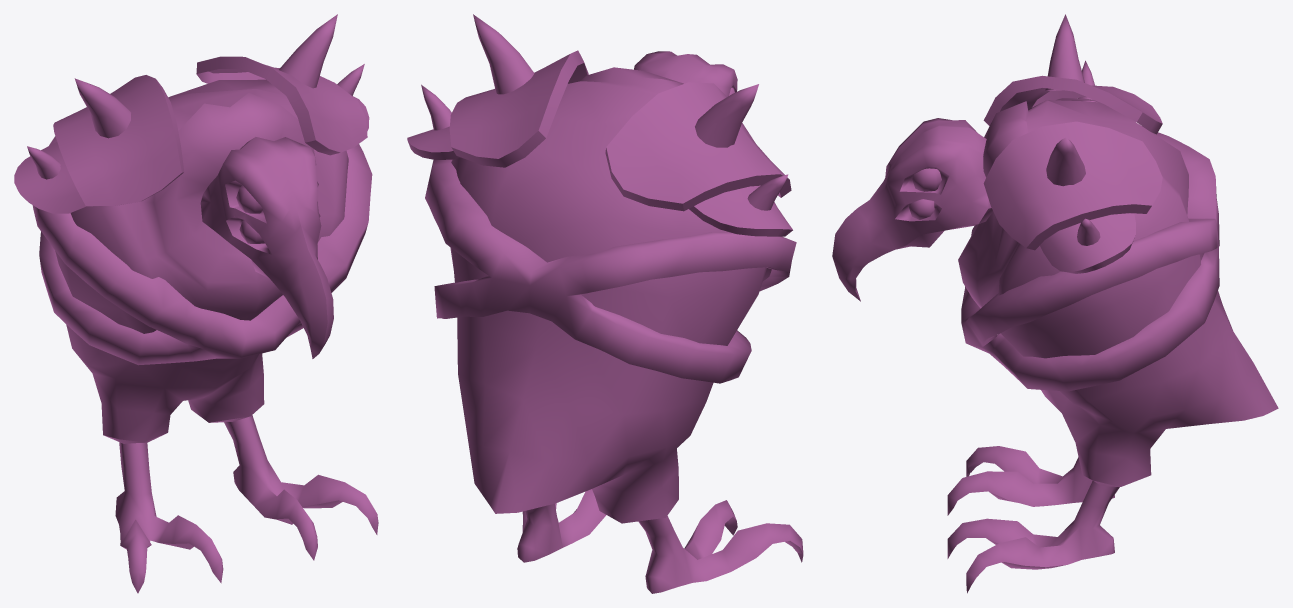
File: E04_Armored_Crow_Grade_1.1.fbx
3 renders of one model, left to right at view 1: azimuth 30°, elevation 25°; view 2: azimuth 150°, elevation 25°; view 3: azimuth 270°, elevation 25°, orthographic. The views are drawn at different scales.
Parts seen in each view (by area): view 1: AR1; view 2: AR1; view 3: AR1.
Boxes of the visible parts, x1=… form: AR1: x1=14, y1=14, x2=378, y2=593; AR1: x1=407, y1=14, x2=803, y2=593; AR1: x1=832, y1=14, x2=1278, y2=593.
Size of the model in its own units: 342 by 452 by 396.
